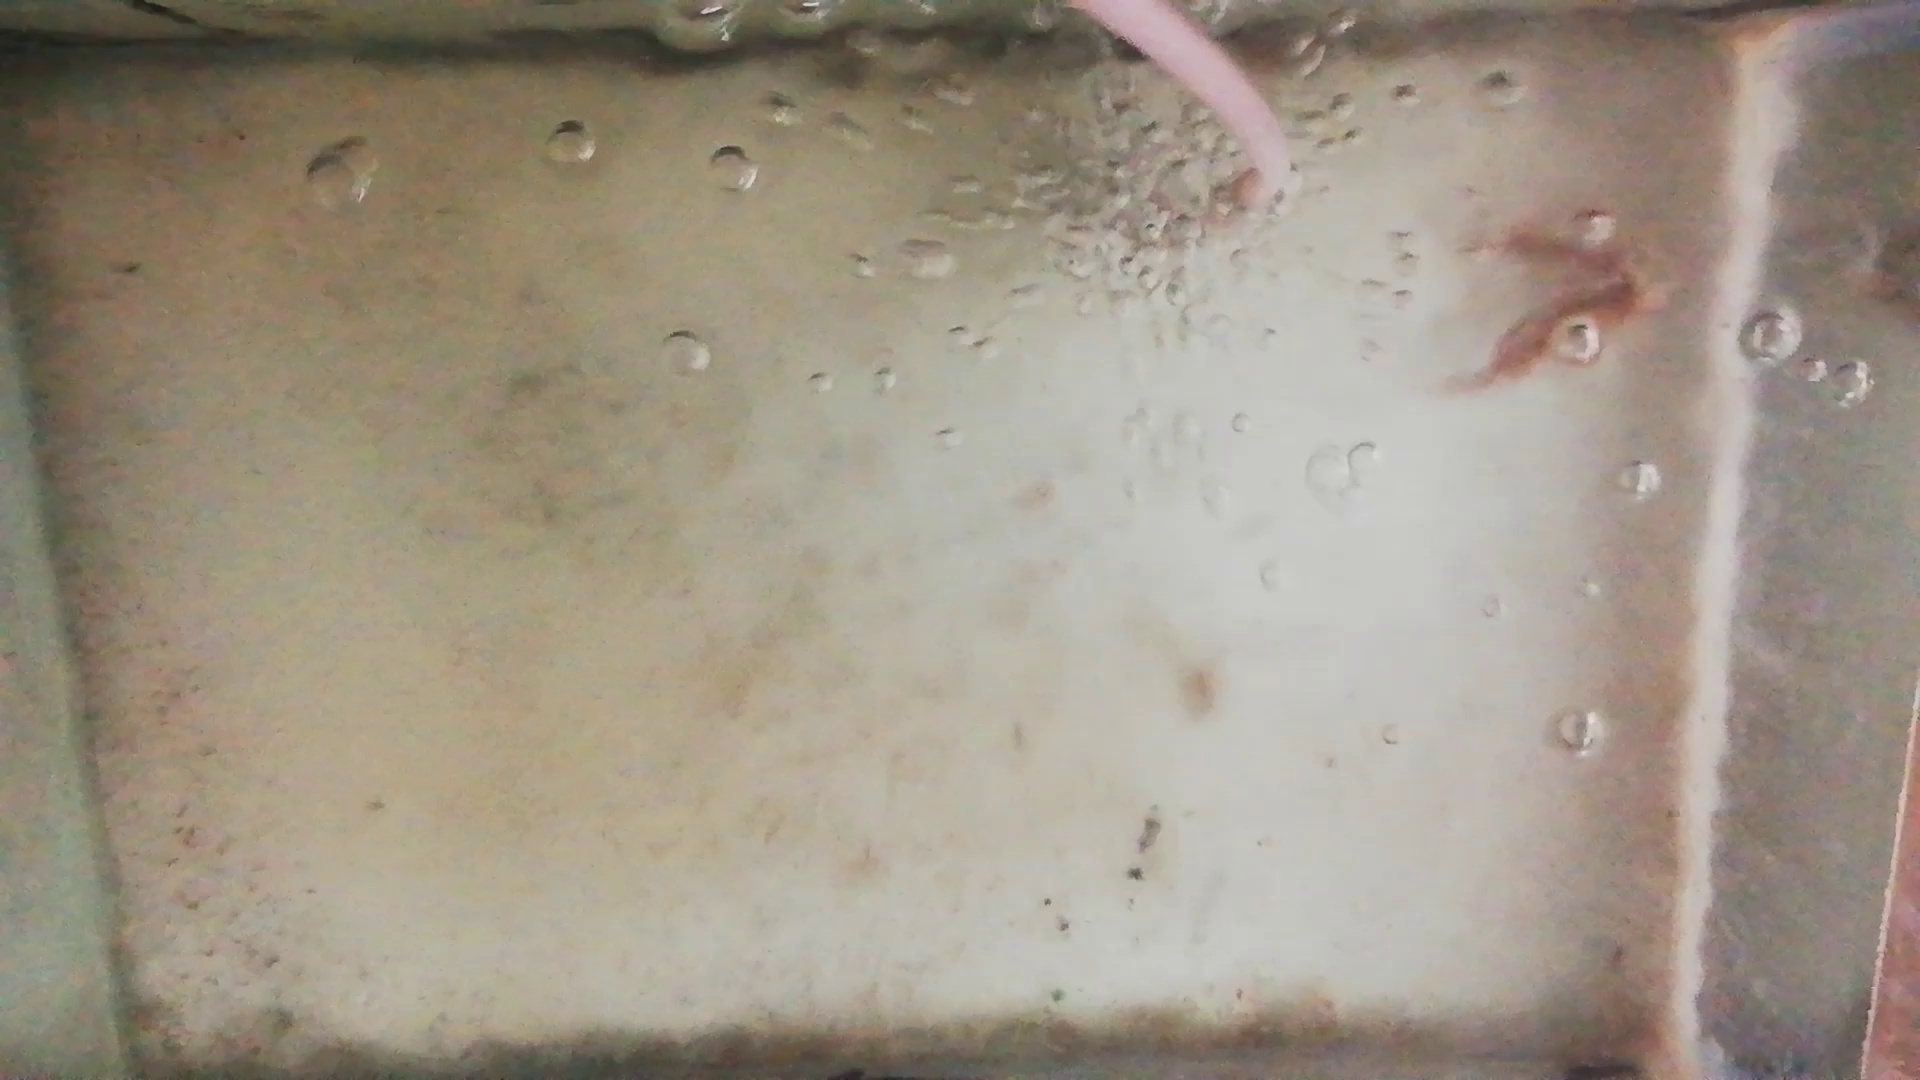fish: (1462, 280, 1664, 386), (1491, 224, 1644, 270)
